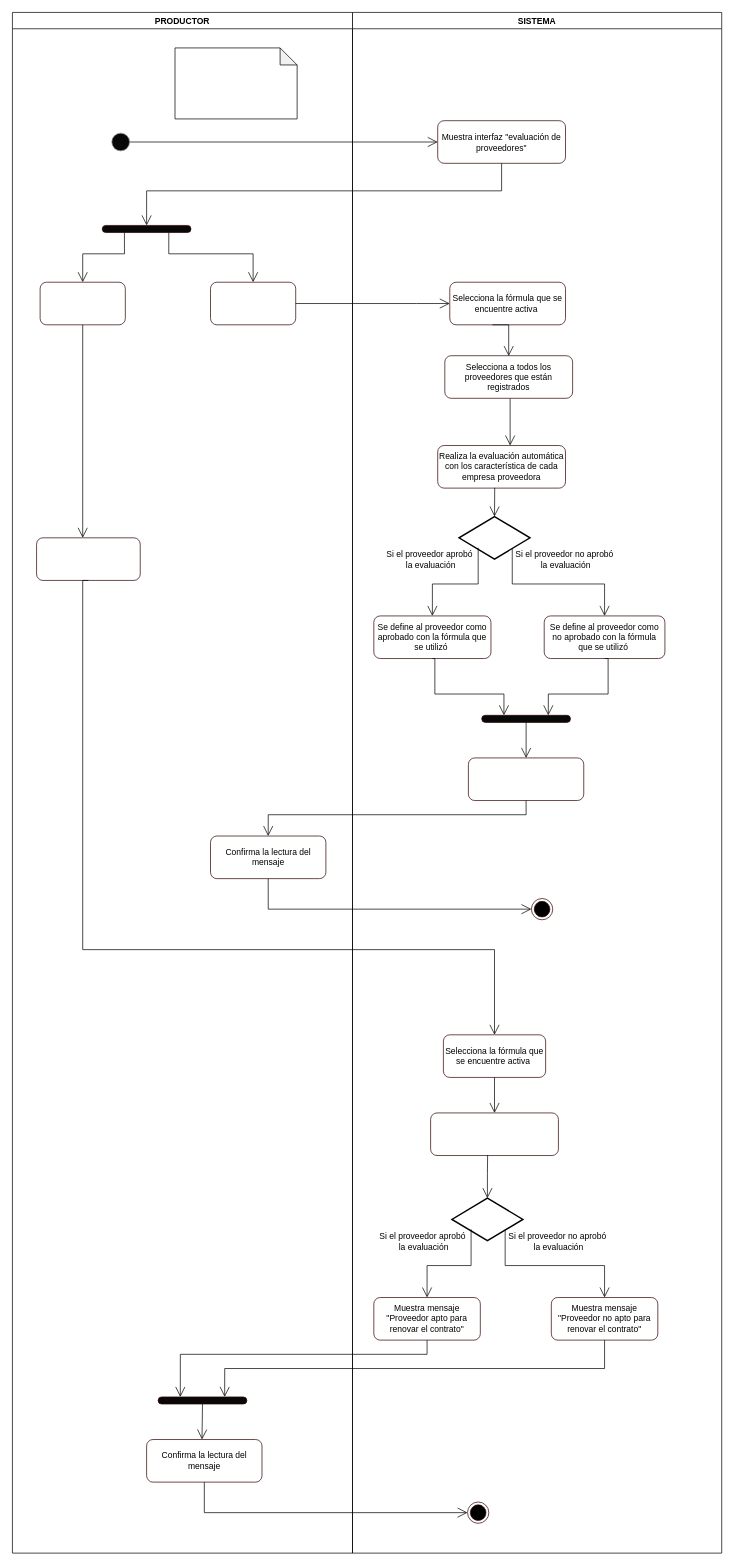
Image size: 734x1566. Some labels were removed from this diagram. The shapes that lost their labels are listed below. From the top down, each one's centre as x and y in pixels, then its label:
[235,83]: Este flujo se inicia cuando el proveedor selecciona evaluaciones a proveedores
[82,303]: Selecciona realizar evaluación anual
[253,303]: Selecciona realizar evaluación inicial
[88,558]: Selecciona un contrato activo para realizar la evaluación anual
[526,779]: Muestra mensaje "Evaluación realizada con éxito"
[494,1134]: Realiza la evaluación automática con los característica de la empresa proveedora
